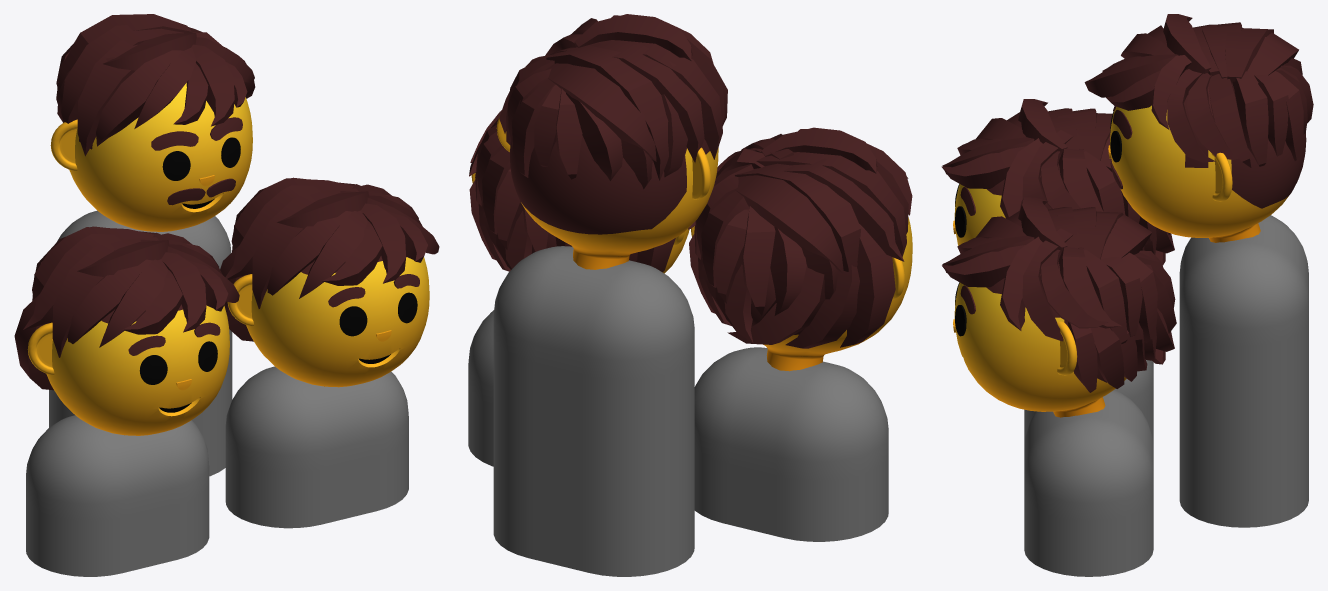
The model's file is family_man_boy_boy.glb.
The picture shows the model from 3 angles, left to right: view 1: azimuth 30°, elevation 25°; view 2: azimuth 150°, elevation 25°; view 3: azimuth 270°, elevation 25°; orthographic projection. The views are drawn at different scales.
Parts seen in each view (by area): view 1: Sphere.329, Sphere.331, Cube.5402, Cube.5349, Cube.5381, Roundcube.399, Roundcube.401, Roundcube.400, Sphere.330, Circle.1665, Circle.1668, Circle.1672 (+7 smaller); view 2: Sphere.330, Cube.5402, Sphere.331, Cube.5381, Roundcube.400, Cube.5349, Sphere.329, Roundcube.401, Cylinder.325; view 3: Sphere.330, Cube.5349, Cube.5381, Sphere.329, Cube.5402, Roundcube.400, Roundcube.399, Roundcube.401, Sphere.331, Cylinder.324, Cylinder.325.
Boxes of the visible parts, x1,y1,x2,y2 form: Sphere.329: [225, 366, 408, 528]; Sphere.331: [26, 415, 209, 576]; Cube.5402: [14, 226, 239, 390]; Cube.5349: [220, 177, 439, 341]; Cube.5381: [56, 14, 255, 156]; Roundcube.399: [246, 256, 429, 387]; Roundcube.401: [46, 304, 229, 435]; Roundcube.400: [69, 83, 252, 231]; Sphere.330: [49, 210, 232, 476]; Circle.1665: [339, 292, 417, 336]; Circle.1668: [162, 137, 240, 180]; Circle.1672: [139, 341, 217, 384]; Sphere.330: [493, 246, 694, 576]; Cube.5402: [688, 127, 912, 348]; Sphere.331: [694, 347, 888, 541]; Cube.5381: [499, 14, 727, 189]; Roundcube.400: [510, 135, 718, 269]; Cube.5349: [469, 110, 675, 272]; Sphere.329: [468, 310, 494, 466]; Roundcube.401: [763, 217, 912, 371]; Cylinder.325: [496, 117, 710, 199]; Sphere.330: [1179, 215, 1308, 527]; Cube.5349: [942, 197, 1176, 392]; Cube.5381: [1084, 14, 1313, 167]; Sphere.329: [1024, 389, 1153, 576]; Cube.5402: [941, 99, 1174, 265]; Roundcube.400: [1110, 69, 1306, 242]; Roundcube.399: [954, 262, 1126, 417]; Roundcube.401: [954, 164, 1060, 245]; Sphere.331: [1024, 360, 1153, 446]; Cylinder.324: [1057, 321, 1077, 375]; Cylinder.325: [1211, 152, 1232, 201].
Size of the model in its own units: 2.36 by 2.58 by 1.9.
Materials: 1 (1 with a texture image).
